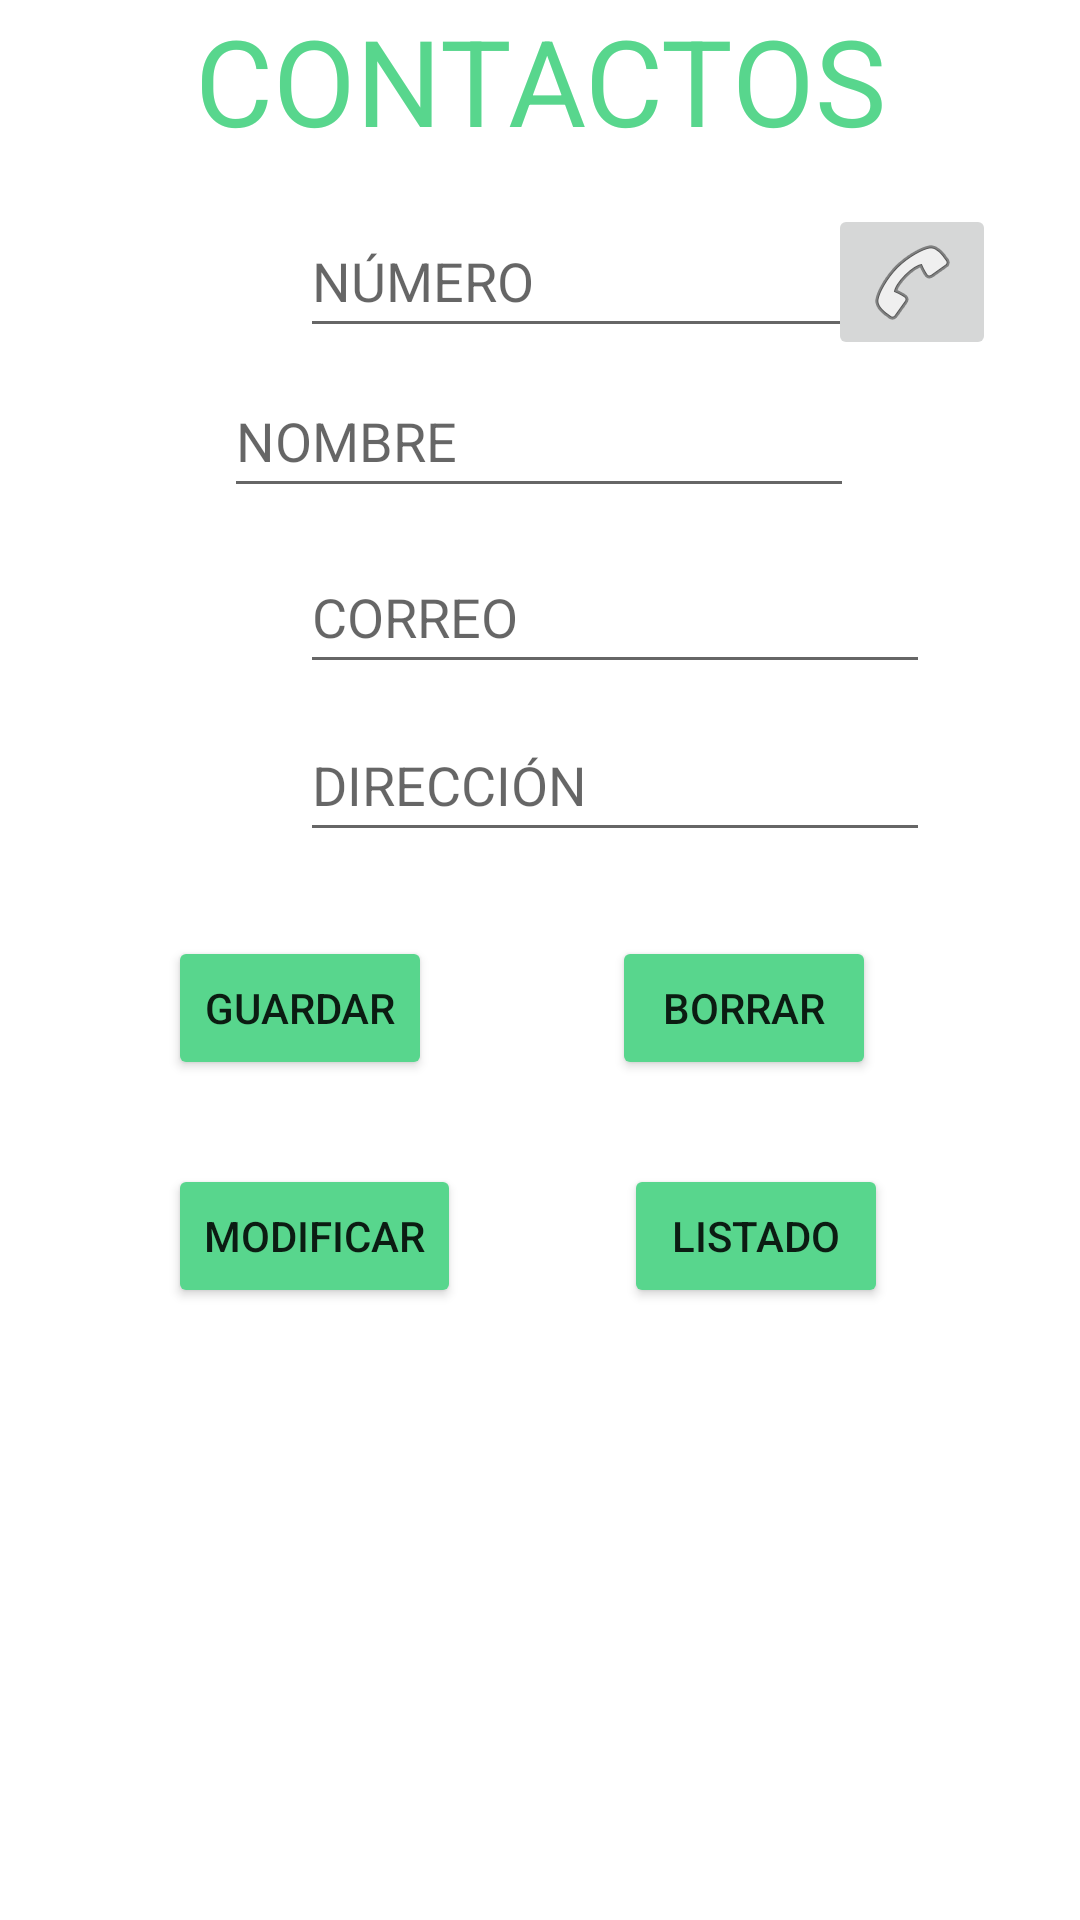

Named icons in this screenshot (1080px x 1920px) and their bounding boxes, (x1, y1, x2, y2):
call: (828, 222, 984, 342)
